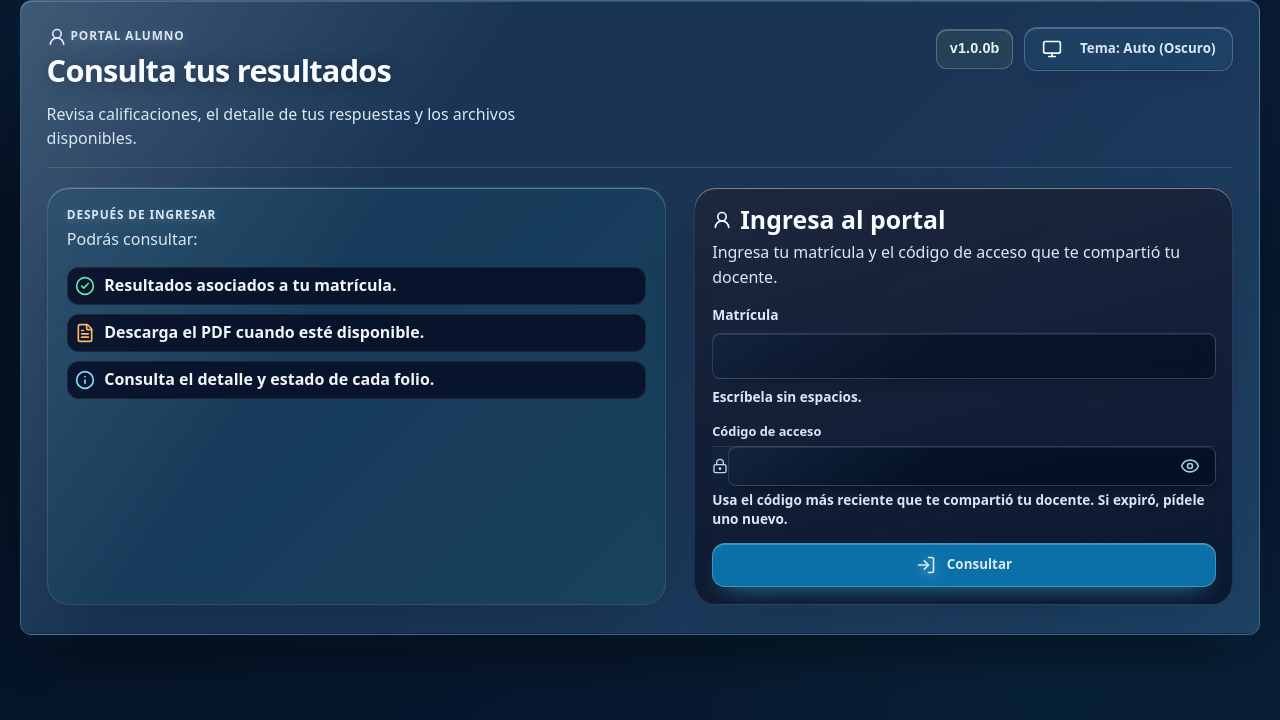
AppAlumno behavior › distingue un fallo de resultados del estado vacío y permite reintentar sin volver a ingresar
Type "demo01" into the password field labelled "Código de acceso" at coordinates (972, 466), box x1=728 y1=446 x2=1216 y2=486
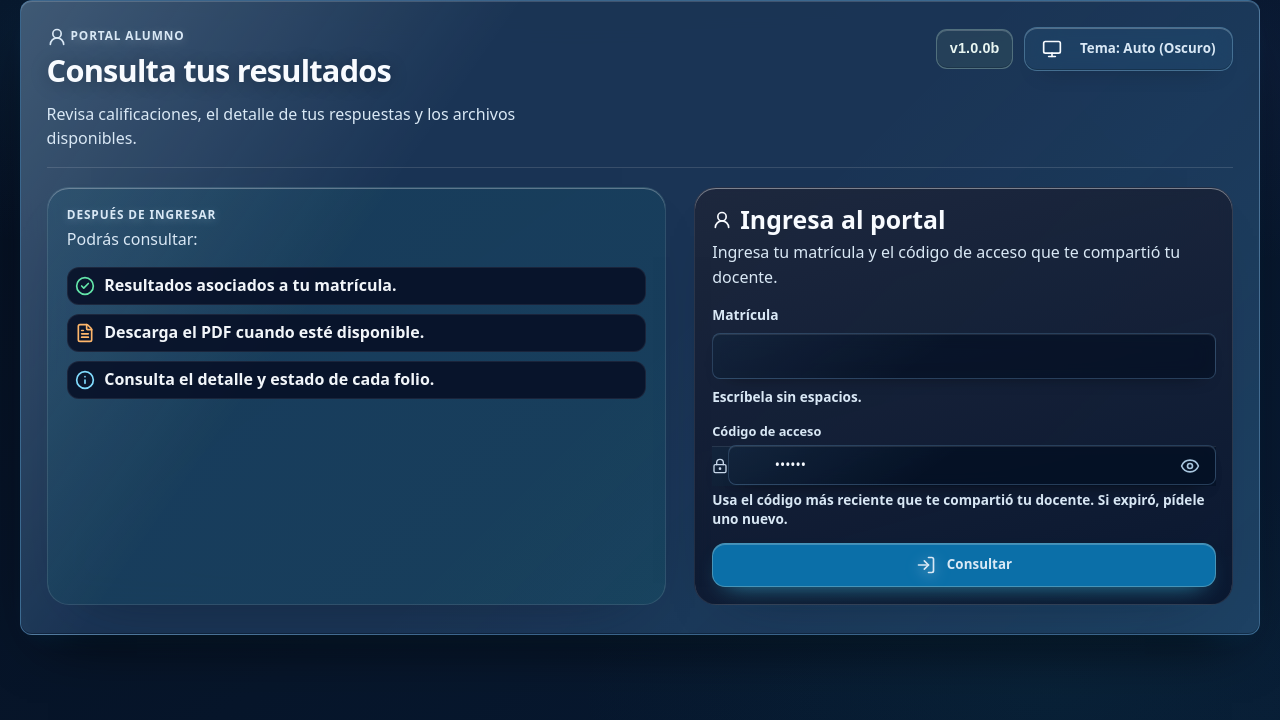
Type "DUMMY-01" into the field labelled "Matrícula Escríbela sin espacios." at coordinates (964, 356), box x1=712 y1=333 x2=1216 y2=379
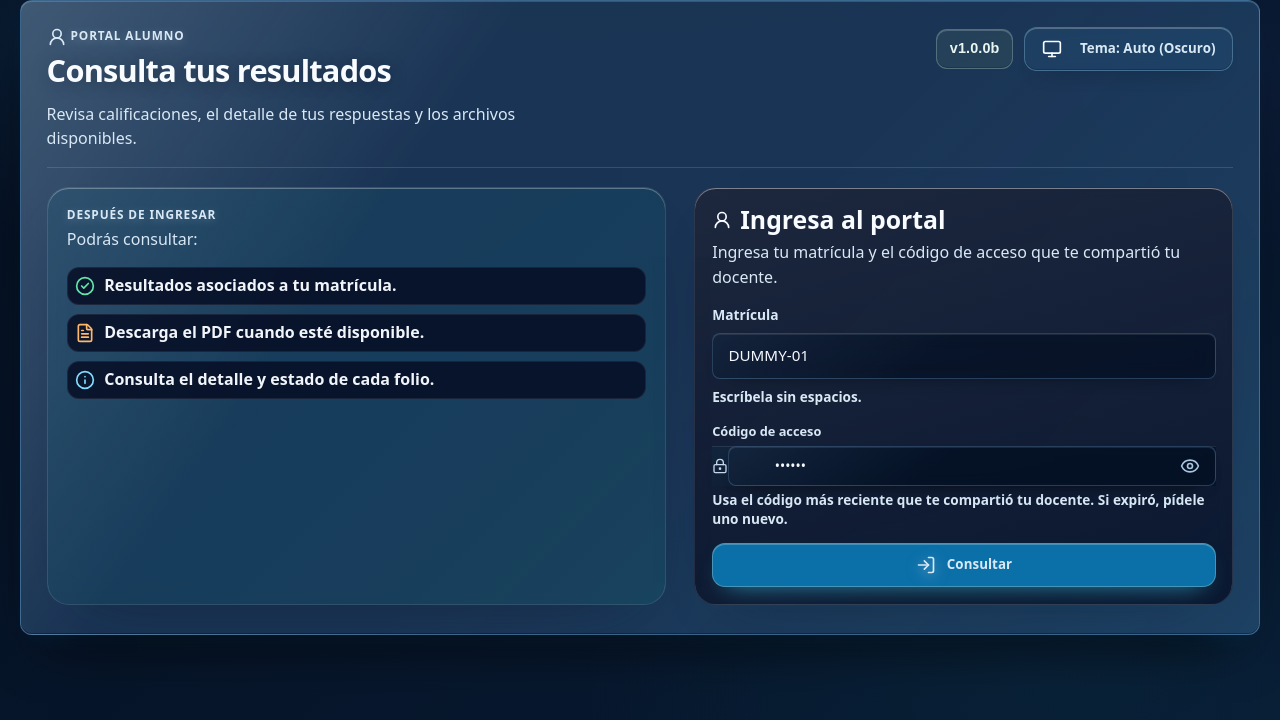
Press Enter
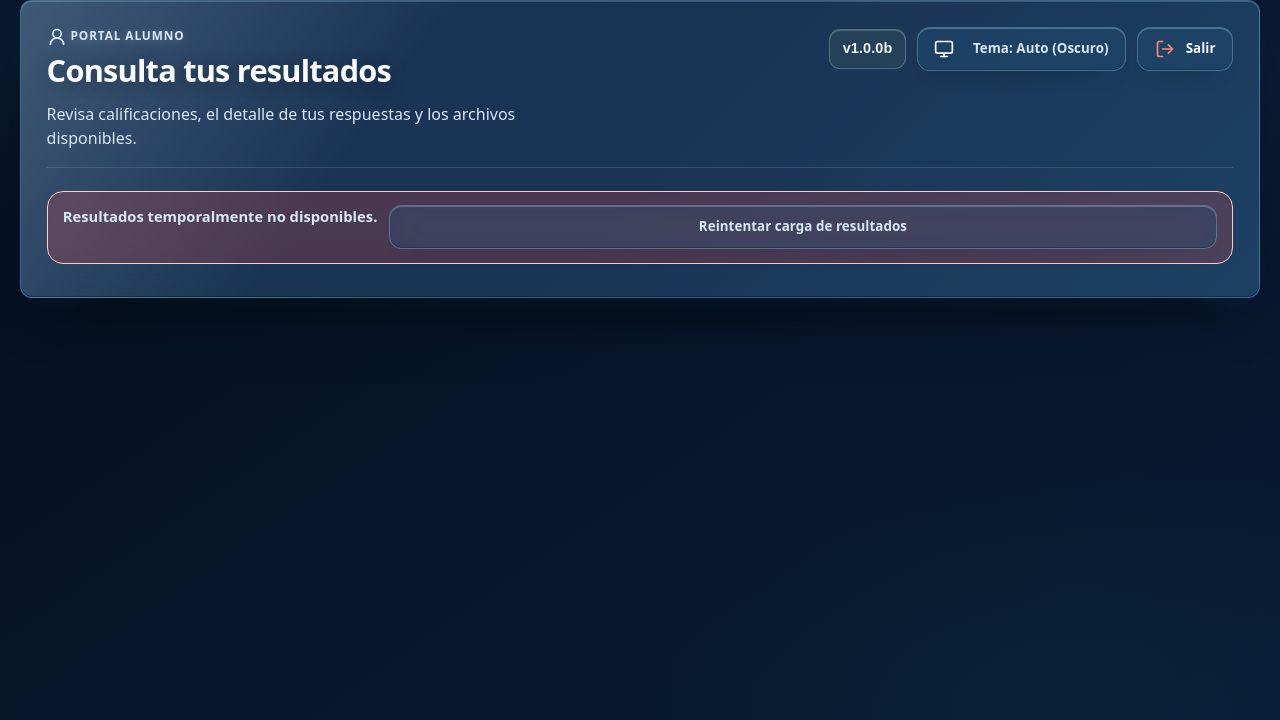
Expected: the message shows "Resultados temporalmente no disponibles.", x1=63 y1=206 x2=377 y2=226
Click the button "Reintentar carga de resultados" at coordinates (803, 227), box x1=388 y1=205 x2=1217 y2=249
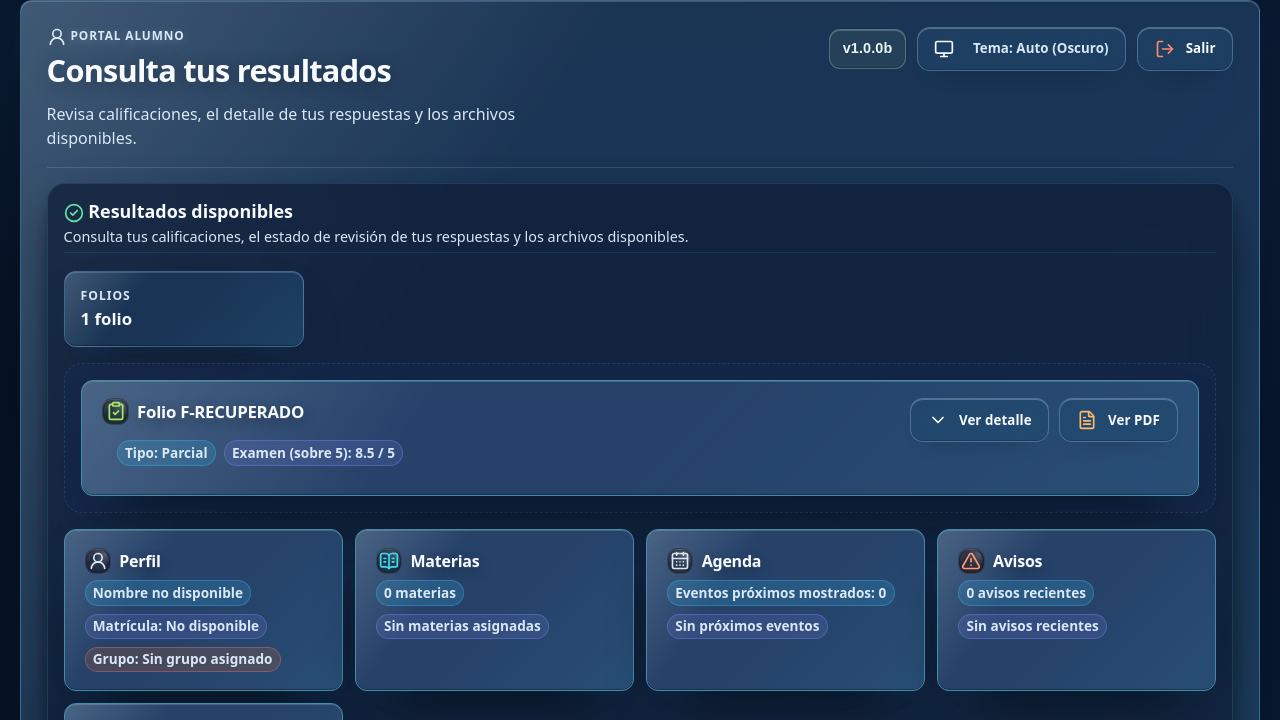
Expected: the text "Folio F-RECUPERADO" is shown, x1=102 y1=398 x2=304 y2=425
Expected: the message "Resultados temporalmente no disponibles. Reintentar carga de resultados" is gone
